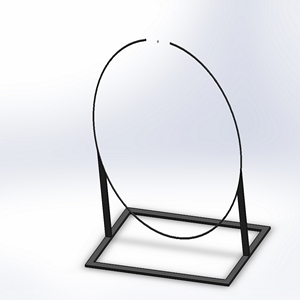circle: (82, 36, 273, 286)
